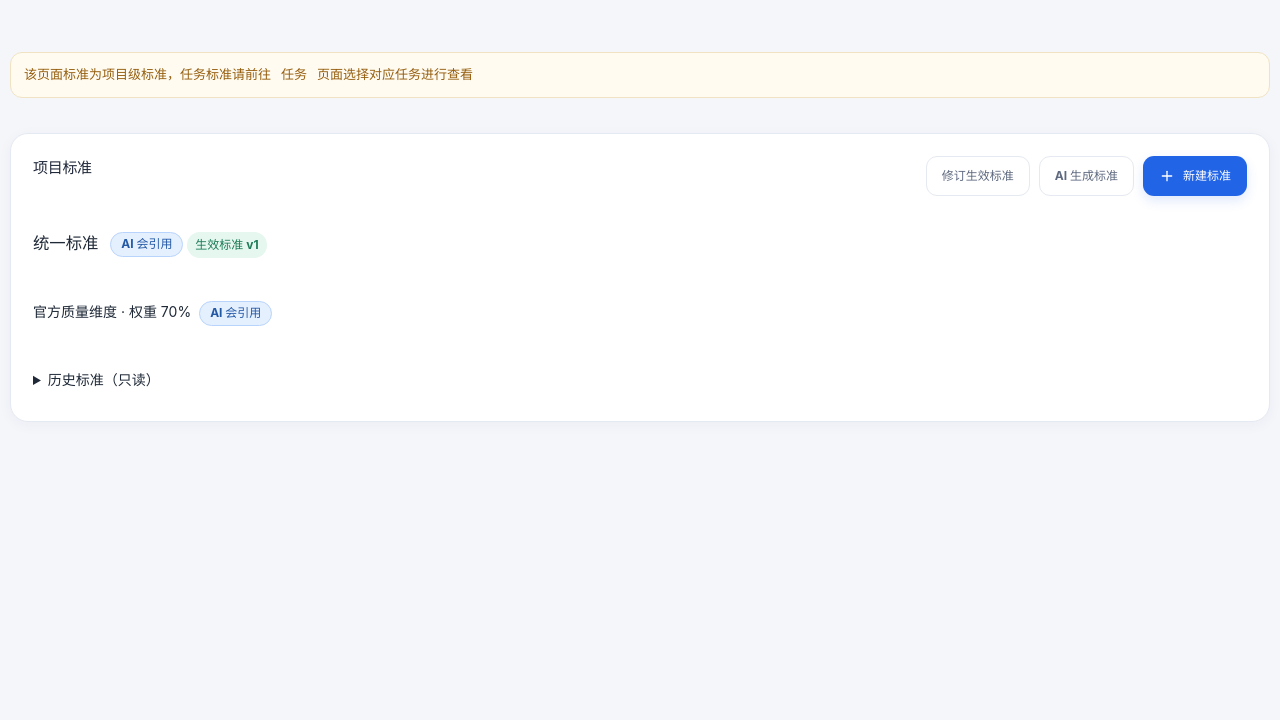
Test: saving a revision creates the new current standard immediately without a confirmation request
Click the button "修订生效标准" at (978, 176), box [926, 156, 1030, 196]
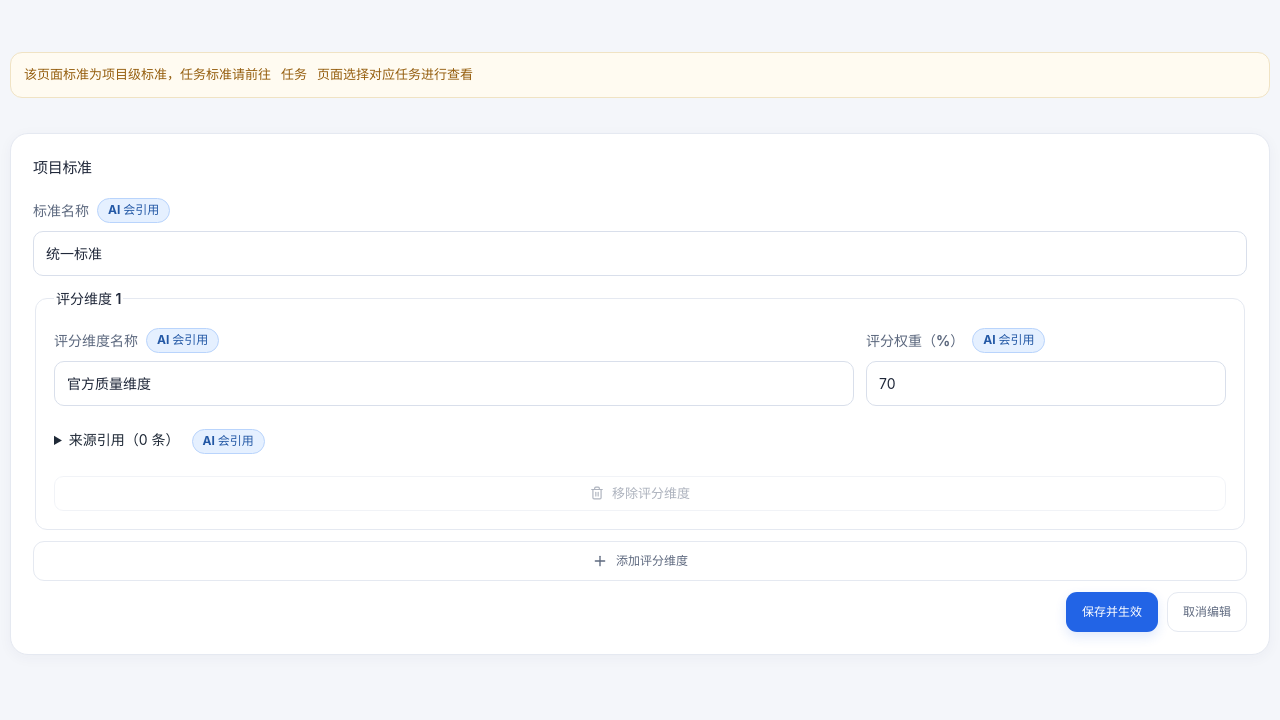
Replace the text in the field labelled "标准名称" with "新生效标准" at (640, 254), box [33, 231, 1247, 276]
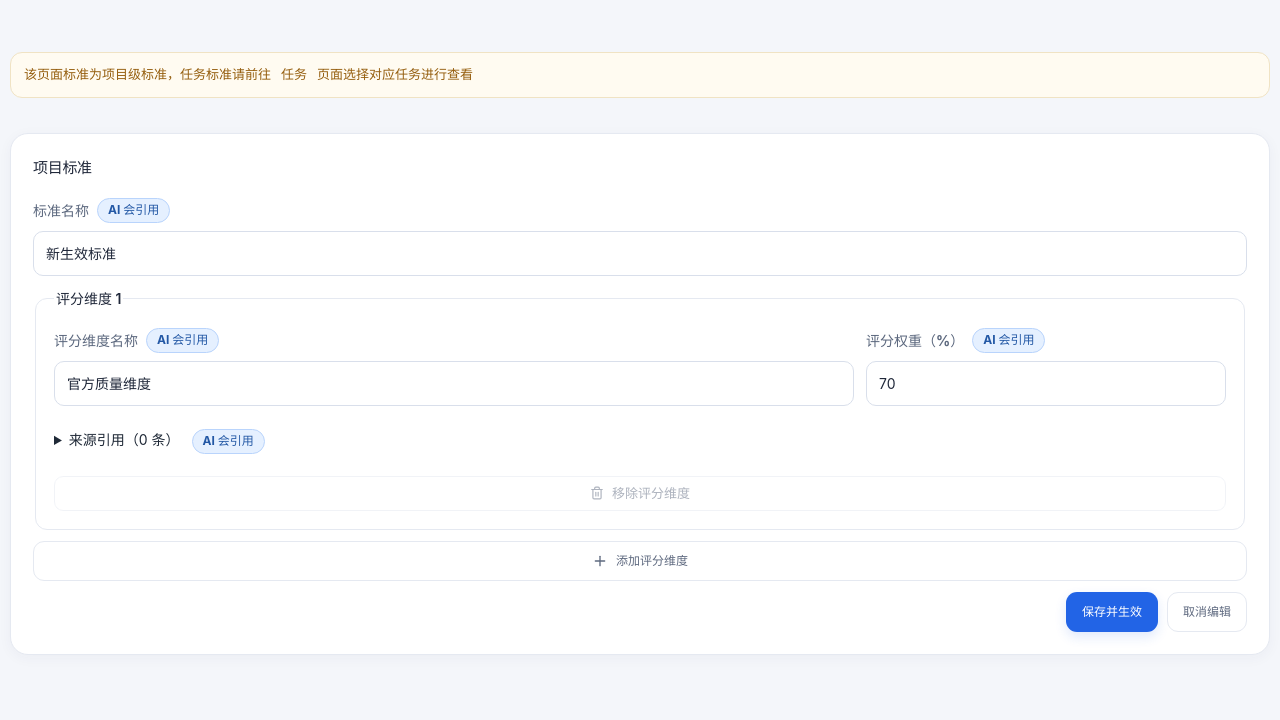
Click the button "保存并生效" at (1112, 612), box [1066, 592, 1158, 632]
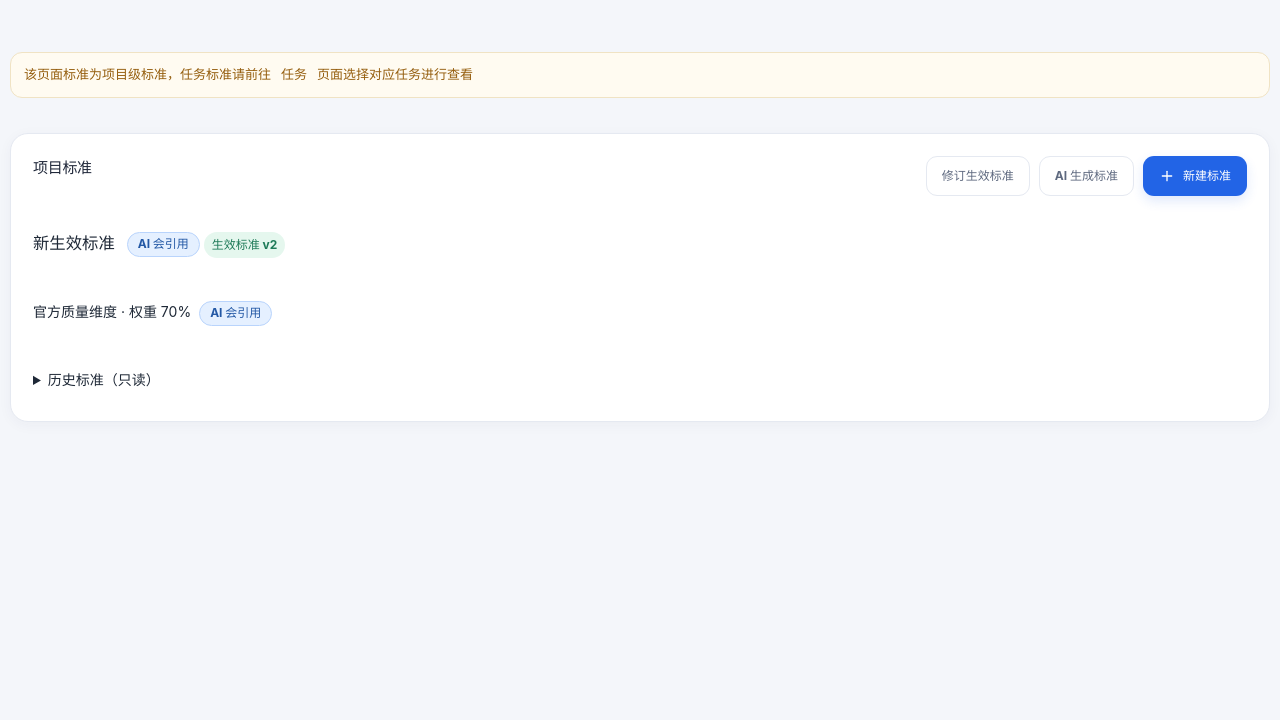
Expected: the text "生效标准 v2" is shown, [204, 232, 285, 258]
